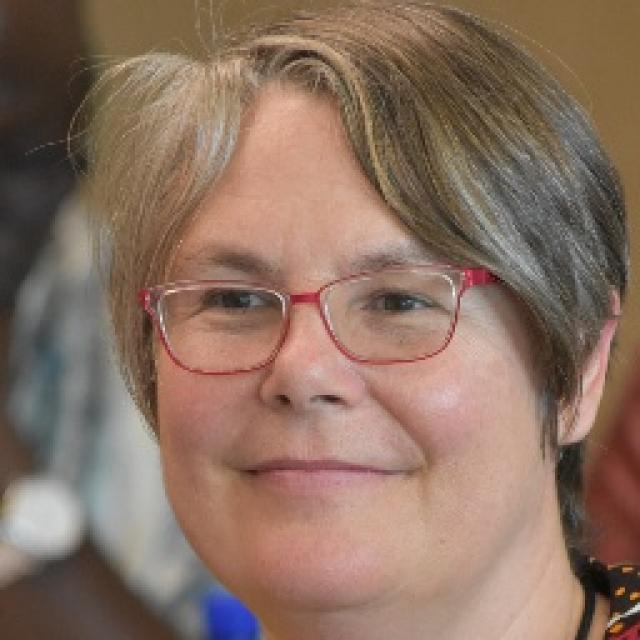earlobe: (550, 393, 593, 448)
eye: (195, 287, 281, 318), (364, 289, 438, 320)
nose: (262, 399, 364, 446)
wholeear: (549, 282, 620, 448)
